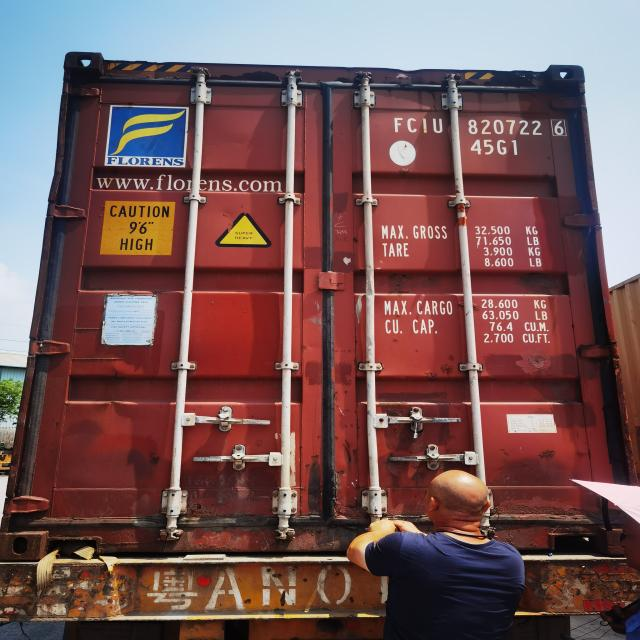seal: (406, 405, 427, 438)
